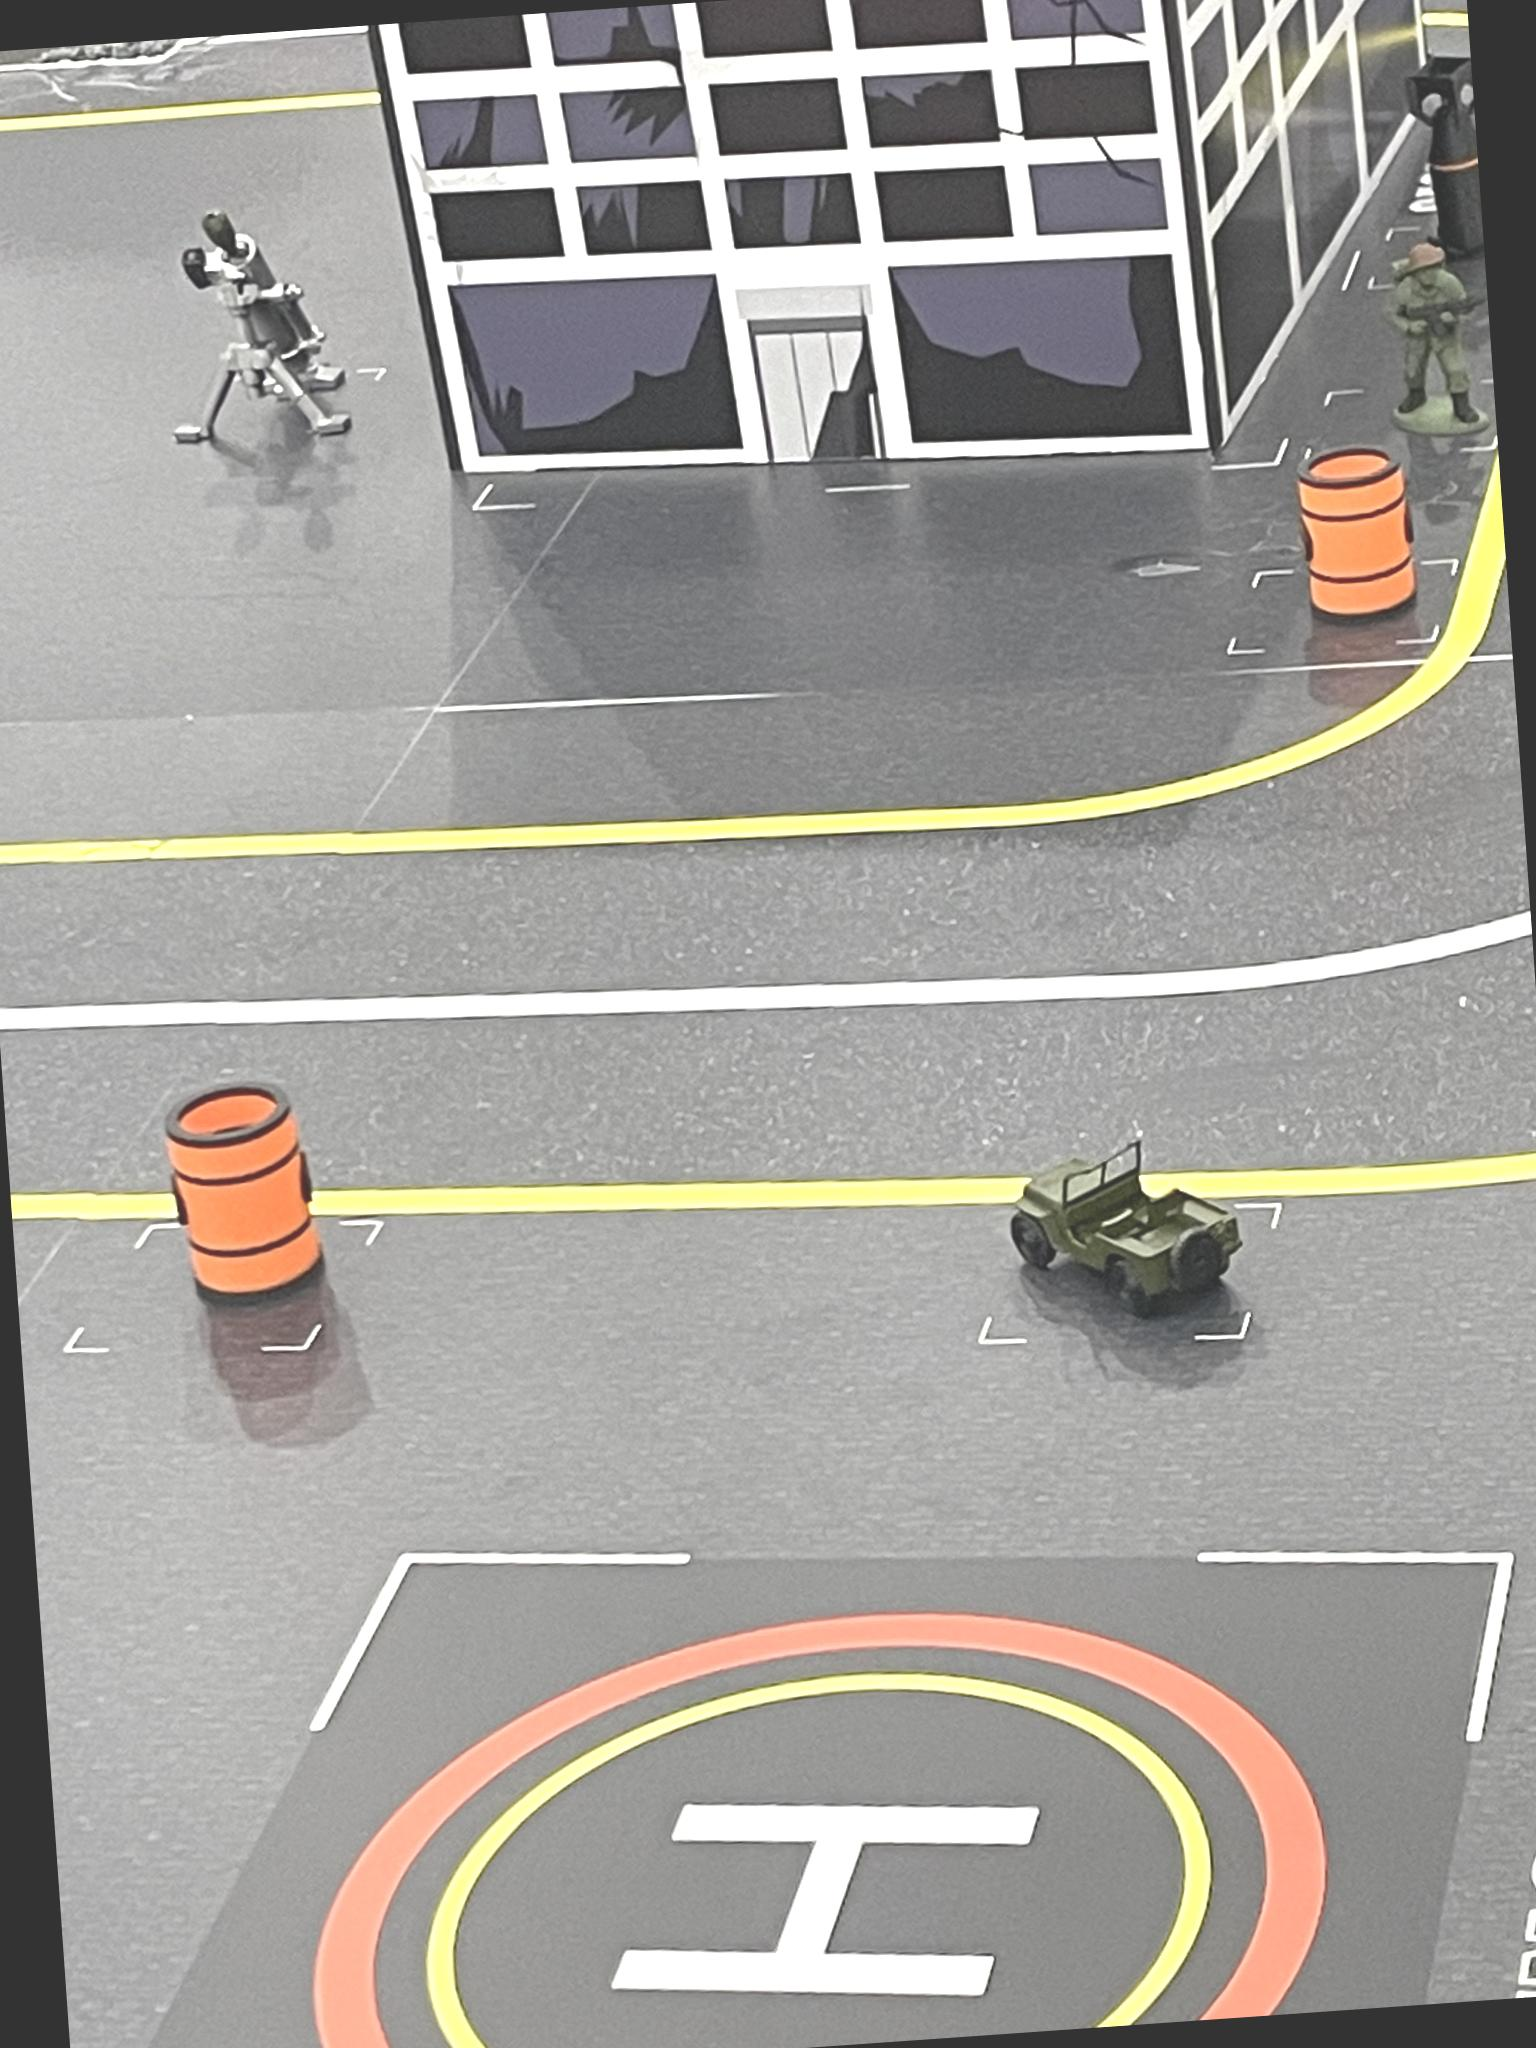Car: (999, 1129, 1242, 1327)
Enemy: (1373, 244, 1489, 440)
Hazmat: (158, 1050, 334, 1322), (1288, 447, 1426, 635)
Missile: (1400, 40, 1484, 260)
Mortar: (163, 203, 350, 458)
